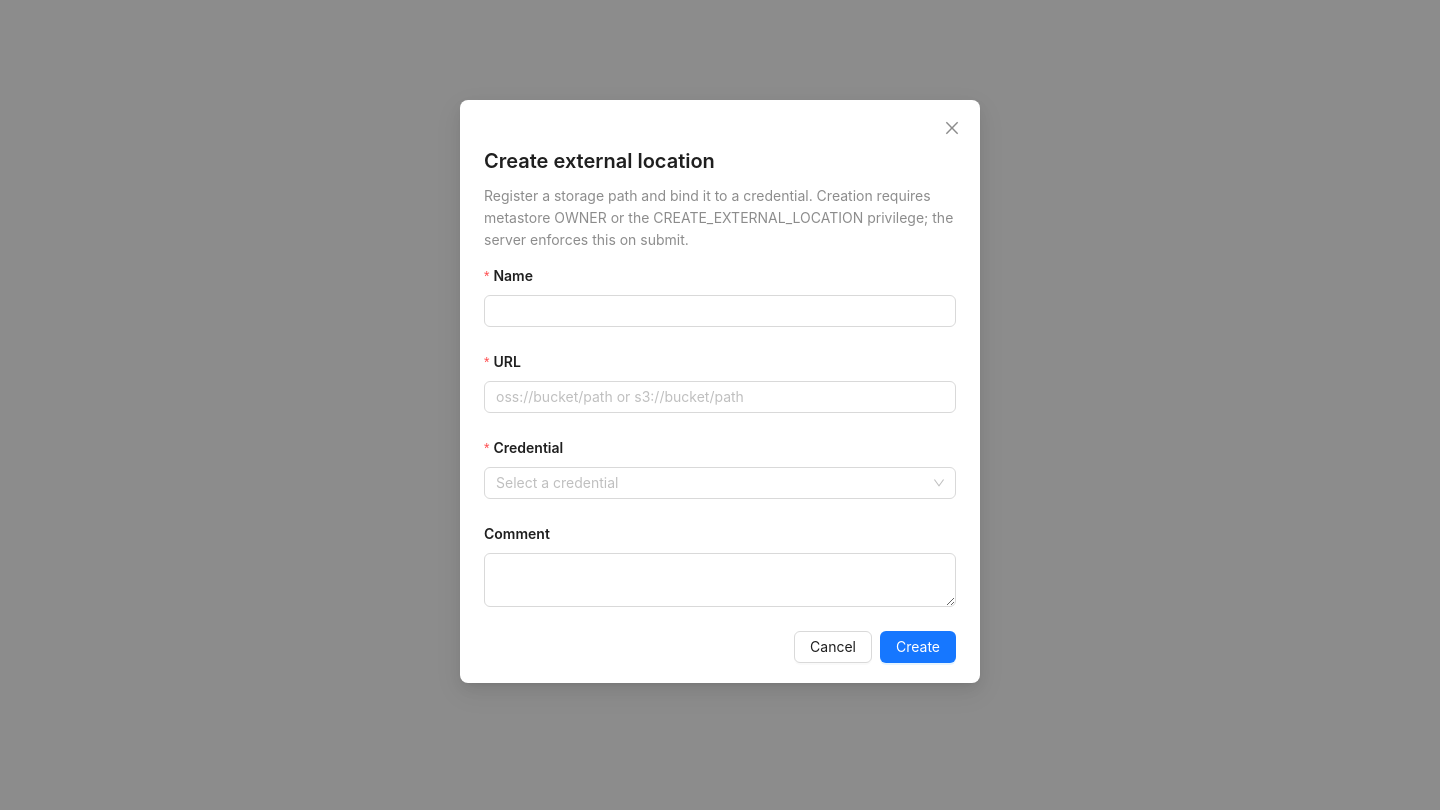
Test: CreateExternalLocationModal › requires name, url and credential
The image size is (1440, 810).
Click the button "Create": (918, 647) x1=880 y1=631 x2=956 y2=663
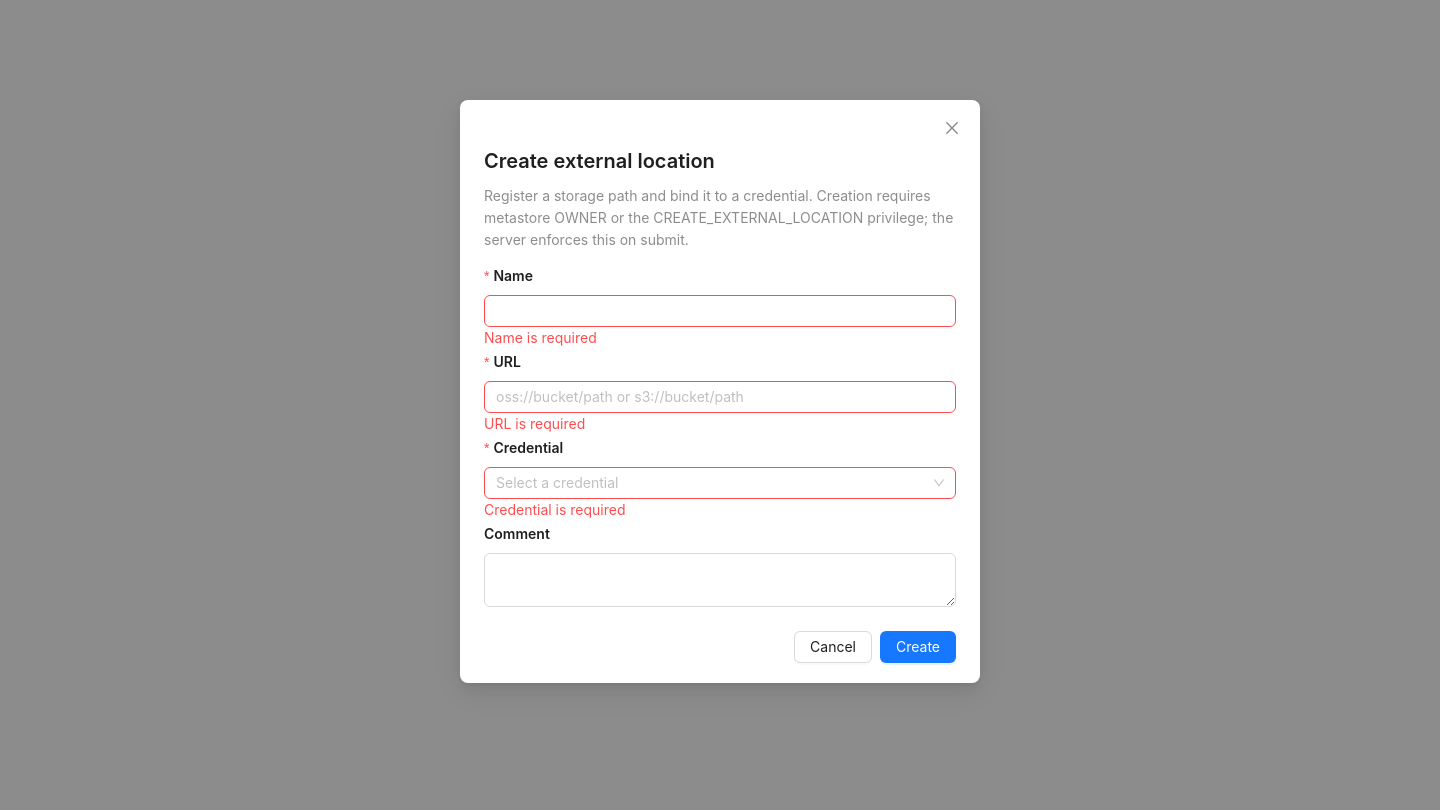
Expected: the text "Name is required" is shown, x1=484 y1=329 x2=597 y2=346
Expected: the text "URL is required" is shown, x1=484 y1=415 x2=585 y2=432
Expected: the text "Credential is required" is shown, x1=484 y1=501 x2=626 y2=518
